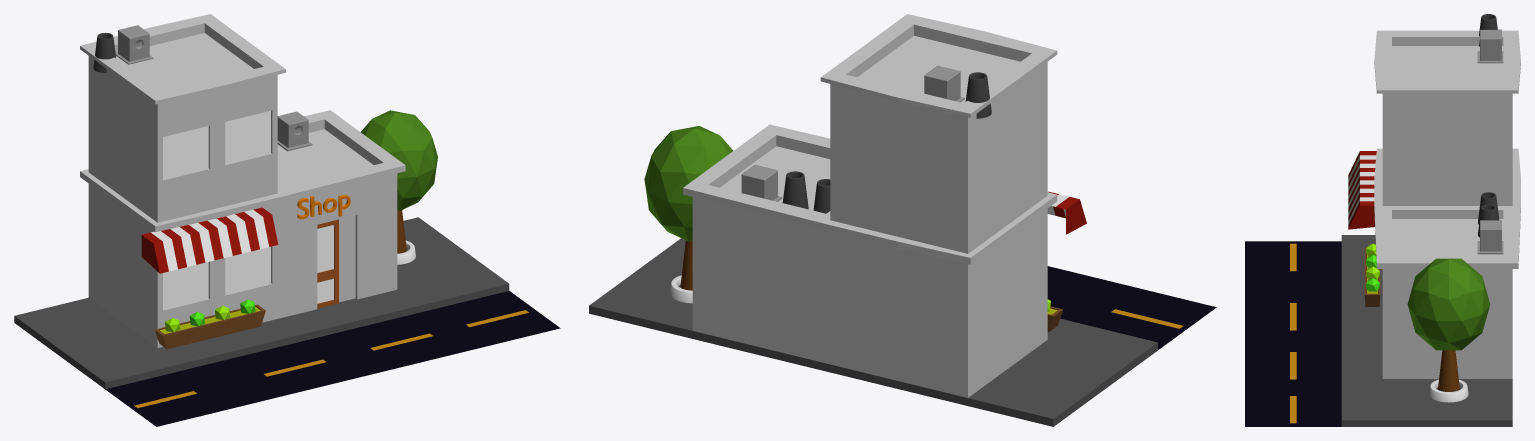
The model's file is cena_13.glb.
3 views of the same model, side by side, from view 1: azimuth 30°, elevation 25°; view 2: azimuth 150°, elevation 25°; view 3: azimuth 270°, elevation 25° (orthographic). The views are drawn at different scales.
Visible parts, largest first — view 1: predio, Plane, Plane.001, Cube.005, Icosphere, Cube.004, Cube.001, Cube.002, Cube.003, Plane.003, Text, Cylinder.002; view 2: predio, Plane, Plane.001, Icosphere, Cube.002, Cube.003, Cube.005, Cylinder.002, Cylinder.001; view 3: predio, Plane.001, Plane, Icosphere, Cube.005, Cube.002, Cube.003, Plane.003, Cylinder.003, Cylinder.004, Cube.004, Cylinder.001 (+2 smaller).
Boxes of the visible parts, x1=… form: predio: x1=80, y1=14, x2=405, y2=347; Plane: x1=14, y1=217, x2=509, y2=389; Plane.001: x1=105, y1=291, x2=560, y2=426; Cube.005: x1=141, y1=207, x2=278, y2=273; Icosphere: x1=361, y1=110, x2=437, y2=210; Cube.004: x1=155, y1=304, x2=265, y2=349; Cube.001: x1=317, y1=219, x2=338, y2=308; Cube.002: x1=277, y1=111, x2=312, y2=151; Cube.003: x1=115, y1=25, x2=153, y2=64; Plane.003: x1=134, y1=310, x2=528, y2=407; Text: x1=297, y1=195, x2=350, y2=219; Cylinder.002: x1=93, y1=32, x2=115, y2=72; predio: x1=683, y1=14, x2=1057, y2=397; Plane: x1=589, y1=238, x2=1157, y2=426; Plane.001: x1=1047, y1=266, x2=1216, y2=349; Icosphere: x1=644, y1=126, x2=733, y2=241; Cube.002: x1=741, y1=165, x2=781, y2=201; Cube.003: x1=924, y1=65, x2=964, y2=102; Cube.005: x1=1047, y1=191, x2=1086, y2=234; Cylinder.002: x1=965, y1=72, x2=991, y2=118; Cylinder.001: x1=782, y1=171, x2=808, y2=209; predio: x1=1374, y1=30, x2=1520, y2=378; Plane.001: x1=1245, y1=241, x2=1341, y2=426; Plane: x1=1341, y1=235, x2=1512, y2=426; Icosphere: x1=1407, y1=258, x2=1490, y2=350; Cube.005: x1=1348, y1=151, x2=1376, y2=229; Cube.002: x1=1477, y1=220, x2=1503, y2=254; Cube.003: x1=1477, y1=29, x2=1503, y2=63; Plane.003: x1=1290, y1=243, x2=1296, y2=423; Cylinder.003: x1=1438, y1=350, x2=1459, y2=391; Cylinder.004: x1=1429, y1=379, x2=1468, y2=402; Cube.004: x1=1364, y1=247, x2=1380, y2=306; Cylinder.001: x1=1478, y1=204, x2=1497, y2=237.
Size of what is drawn, in the model's own units: 6.75 by 4.42 by 4.24.
